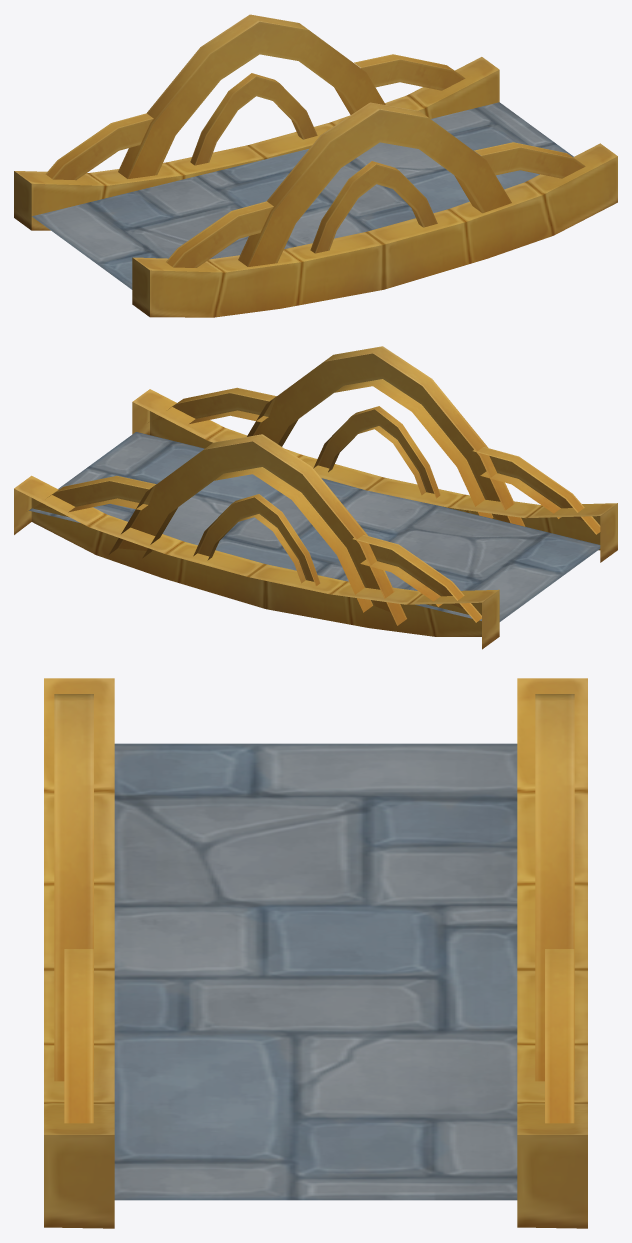
The model's file is sea_bridge.FBX.
3 renders of one model, top to bottom at view 1: azimuth 30°, elevation 25°; view 2: azimuth 150°, elevation 25°; view 3: azimuth 270°, elevation 25°, orthographic. The views are drawn at different scales.
Visible parts, largest first — view 1: Object163; view 2: Object163; view 3: Object163.
Part boxes in pixels (x1=…): Object163: x1=14, y1=14, x2=617, y2=317; Object163: x1=14, y1=346, x2=617, y2=649; Object163: x1=44, y1=678, x2=587, y2=1228.
Bounding box in the file's own units: 291 × 147 × 106.
